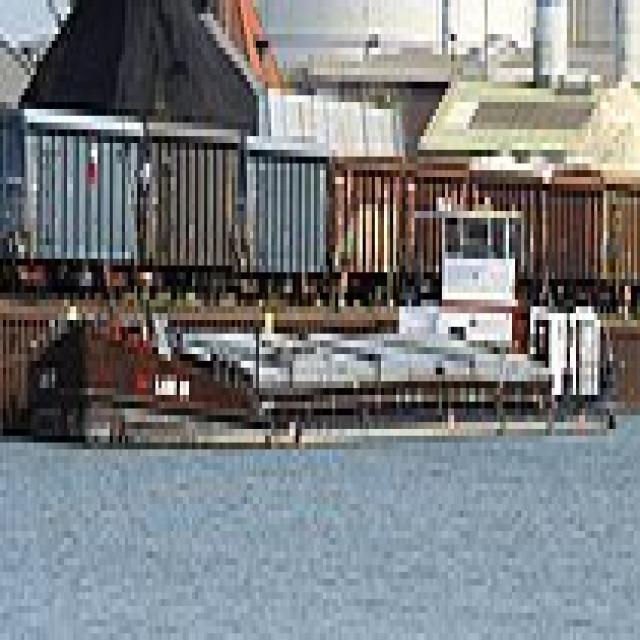Cargo: (18, 177, 616, 443)
